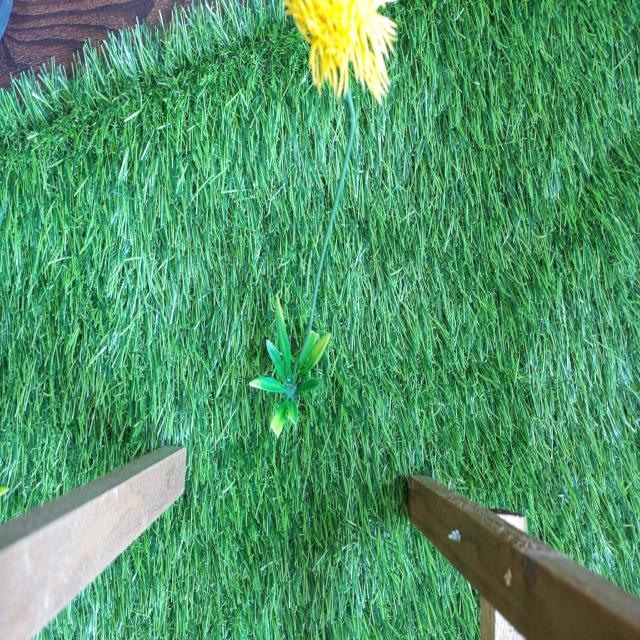base: (252, 295, 329, 442)
flower: (286, 0, 398, 101)
